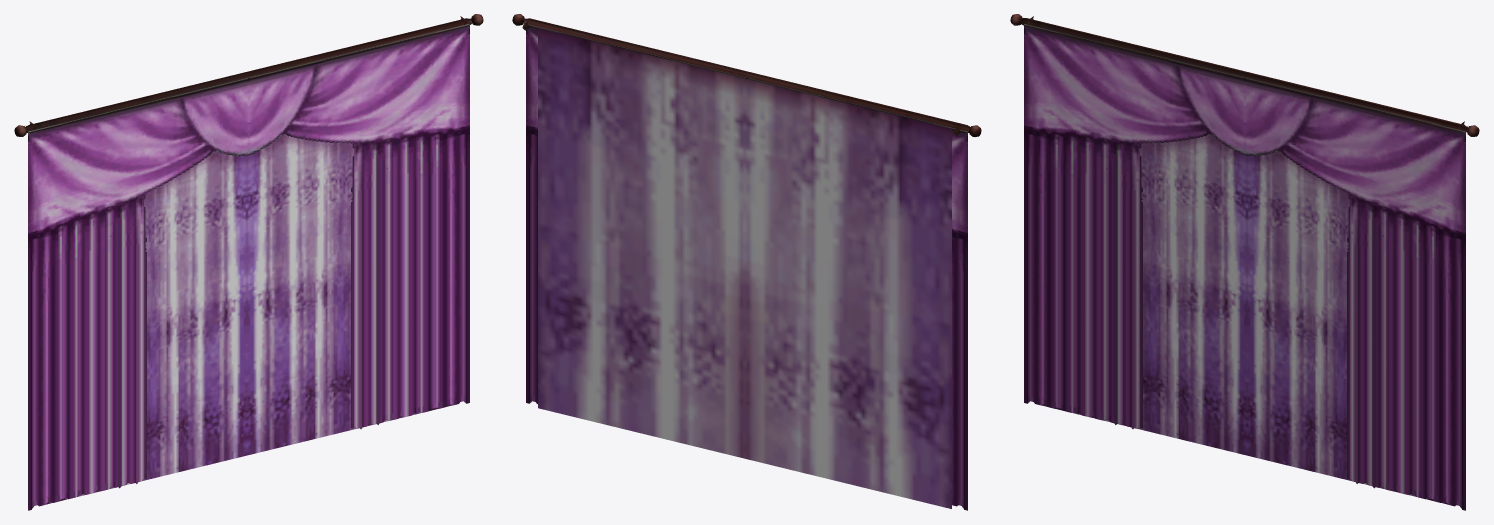
The model's file is furni_0201137_01.FBX.
3 views of the same model, side by side, from view 1: azimuth 30°, elevation 25°; view 2: azimuth 150°, elevation 25°; view 3: azimuth 330°, elevation 25° (orthographic).
Parts seen in each view (by area): view 1: furni_0201137; view 2: furni_0201137; view 3: furni_0201137.
Part boxes in pixels (x1,y1,x2,y2): furni_0201137: (14, 14, 483, 510); furni_0201137: (512, 14, 981, 510); furni_0201137: (1010, 14, 1479, 510).
Bounding box in the file's own units: 353 × 279 × 12.24.
Materials: 2 (2 with a texture image).
